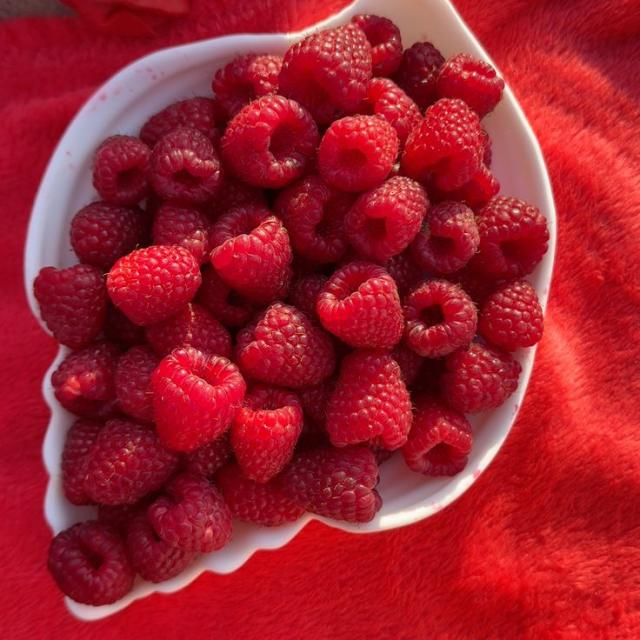raspberry: (153, 347, 246, 451), (220, 95, 319, 188), (280, 25, 372, 123), (327, 350, 412, 450), (236, 303, 335, 387), (211, 206, 292, 304), (85, 420, 179, 504), (283, 446, 381, 522), (317, 262, 403, 348), (402, 99, 483, 190), (107, 246, 200, 325), (48, 522, 134, 605), (345, 177, 428, 260), (231, 386, 302, 482), (275, 176, 354, 262), (147, 474, 232, 552), (472, 197, 548, 278), (34, 265, 108, 348), (318, 116, 398, 192), (403, 280, 477, 357), (402, 396, 473, 475), (440, 344, 520, 413), (151, 127, 222, 203), (217, 464, 303, 526), (52, 341, 120, 419), (71, 202, 147, 270), (411, 201, 479, 274), (355, 78, 422, 150), (146, 303, 232, 358), (127, 514, 194, 582), (479, 280, 543, 351), (213, 54, 282, 118), (437, 54, 504, 118), (94, 135, 151, 205), (140, 97, 219, 147), (196, 265, 256, 326), (114, 346, 159, 422), (153, 203, 210, 263), (394, 42, 444, 110), (62, 420, 102, 505), (430, 164, 499, 210), (352, 15, 402, 76), (205, 174, 266, 219), (98, 493, 156, 536), (376, 247, 423, 297), (181, 434, 231, 480), (446, 265, 496, 307), (381, 248, 422, 296), (298, 378, 335, 428), (104, 302, 145, 347), (288, 274, 327, 320), (391, 341, 423, 385), (410, 358, 446, 395), (295, 415, 330, 453), (292, 252, 332, 279), (145, 191, 165, 223), (370, 446, 393, 466), (482, 128, 492, 168)
